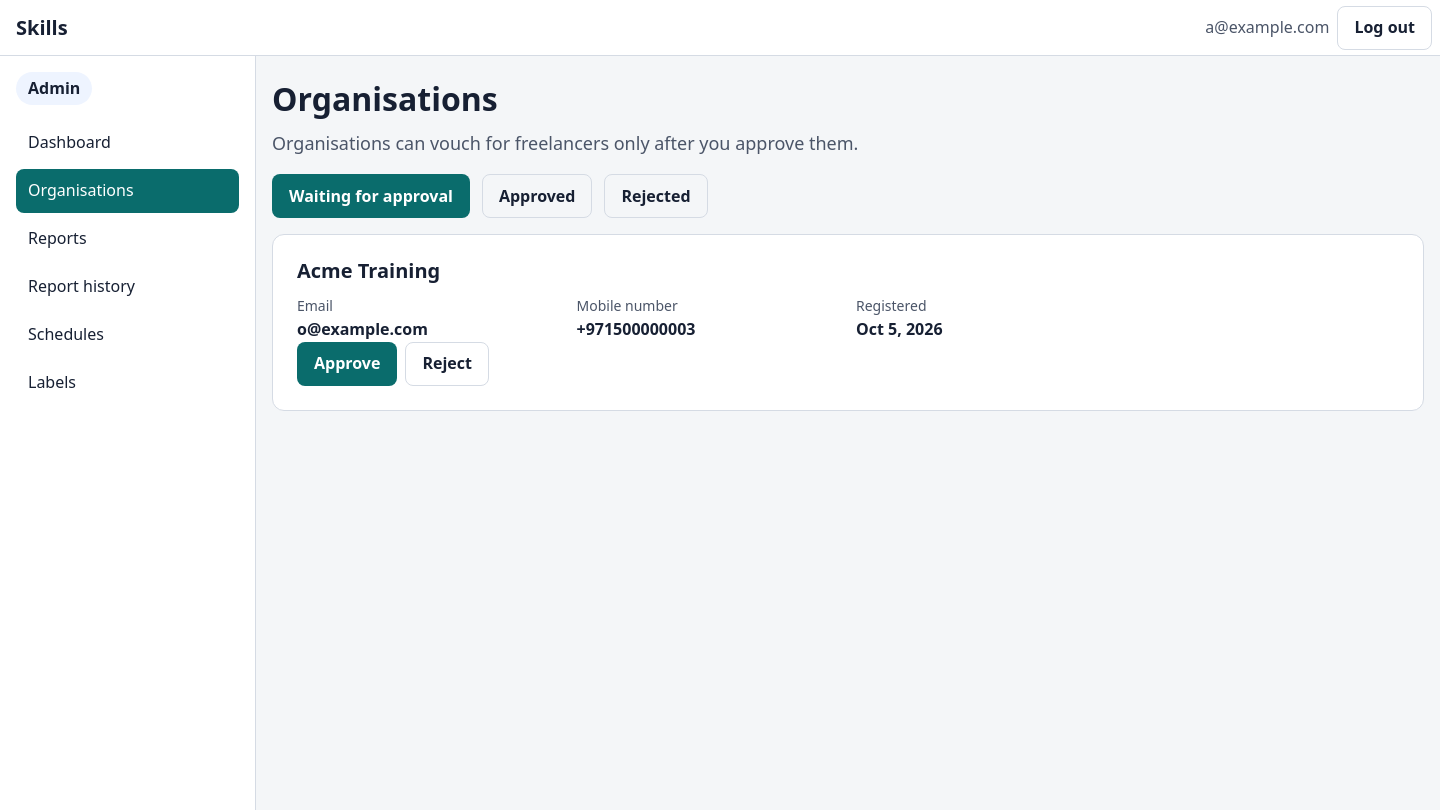
Test: organisation approvals › shows an error when the decision fails
Click the button with aria-label "Approve: Acme Training".
click(347, 364)  # box [297,342,397,386]
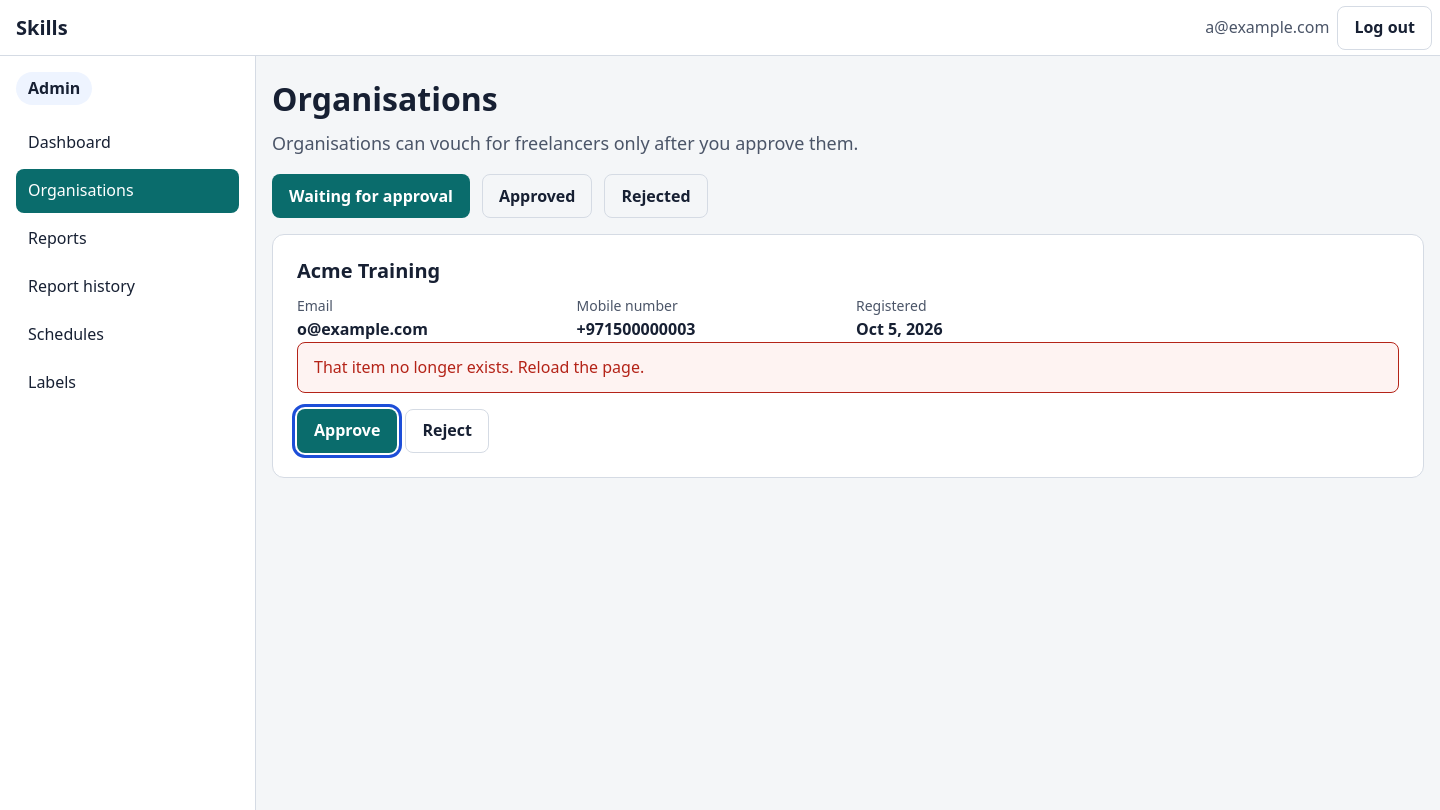
Check: the message shows "no longer exists", box [314,356,644,378]
